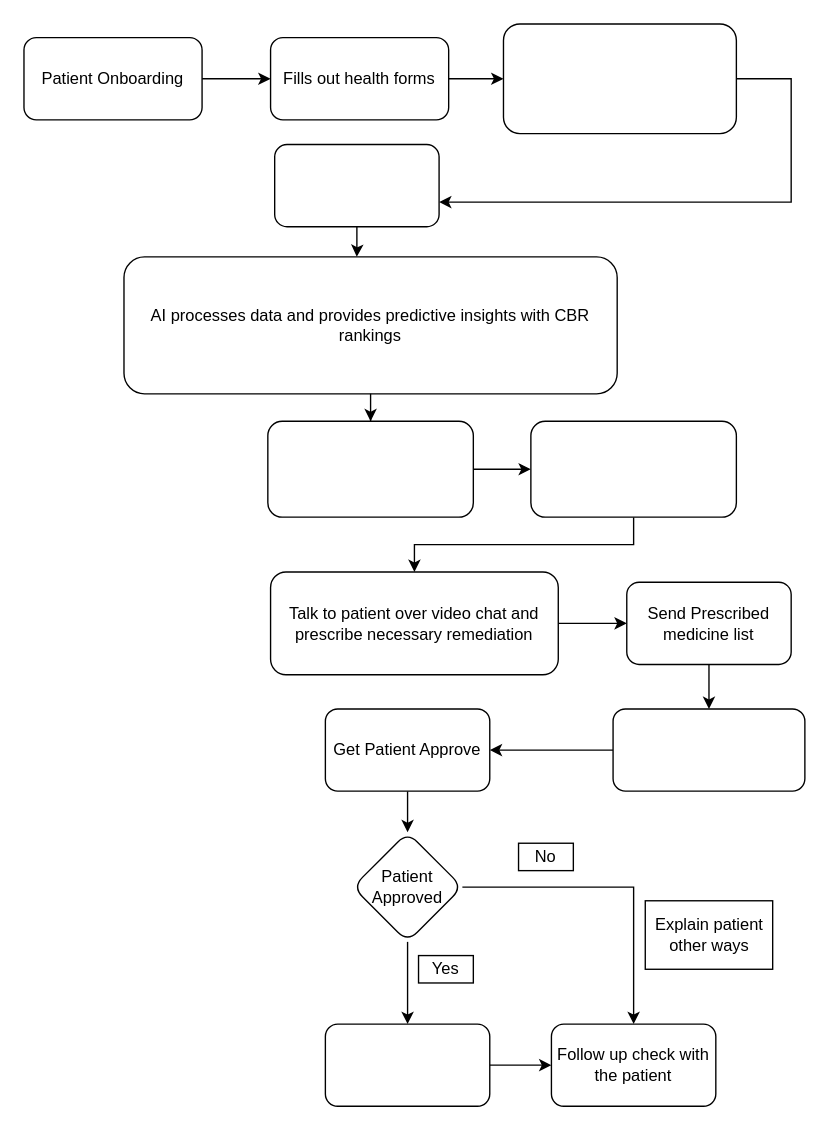
The diagram is 829 pixels wide and 1130 high, and some of its shapes have lost their labels. Here are the shapes that lost their labels. From the top down, the centre of each, then its label:
At (619,78): "Submits data with video explanation of symptoms".
At (356,185): "Data Integration".
At (369,468): "Doctor Reviews Patient Records".
At (633,468): "Double Check the AI Response".
At (708,749): "Get approved by AI or doctor".
At (407,1064): "Order to Medicine Vendors".
